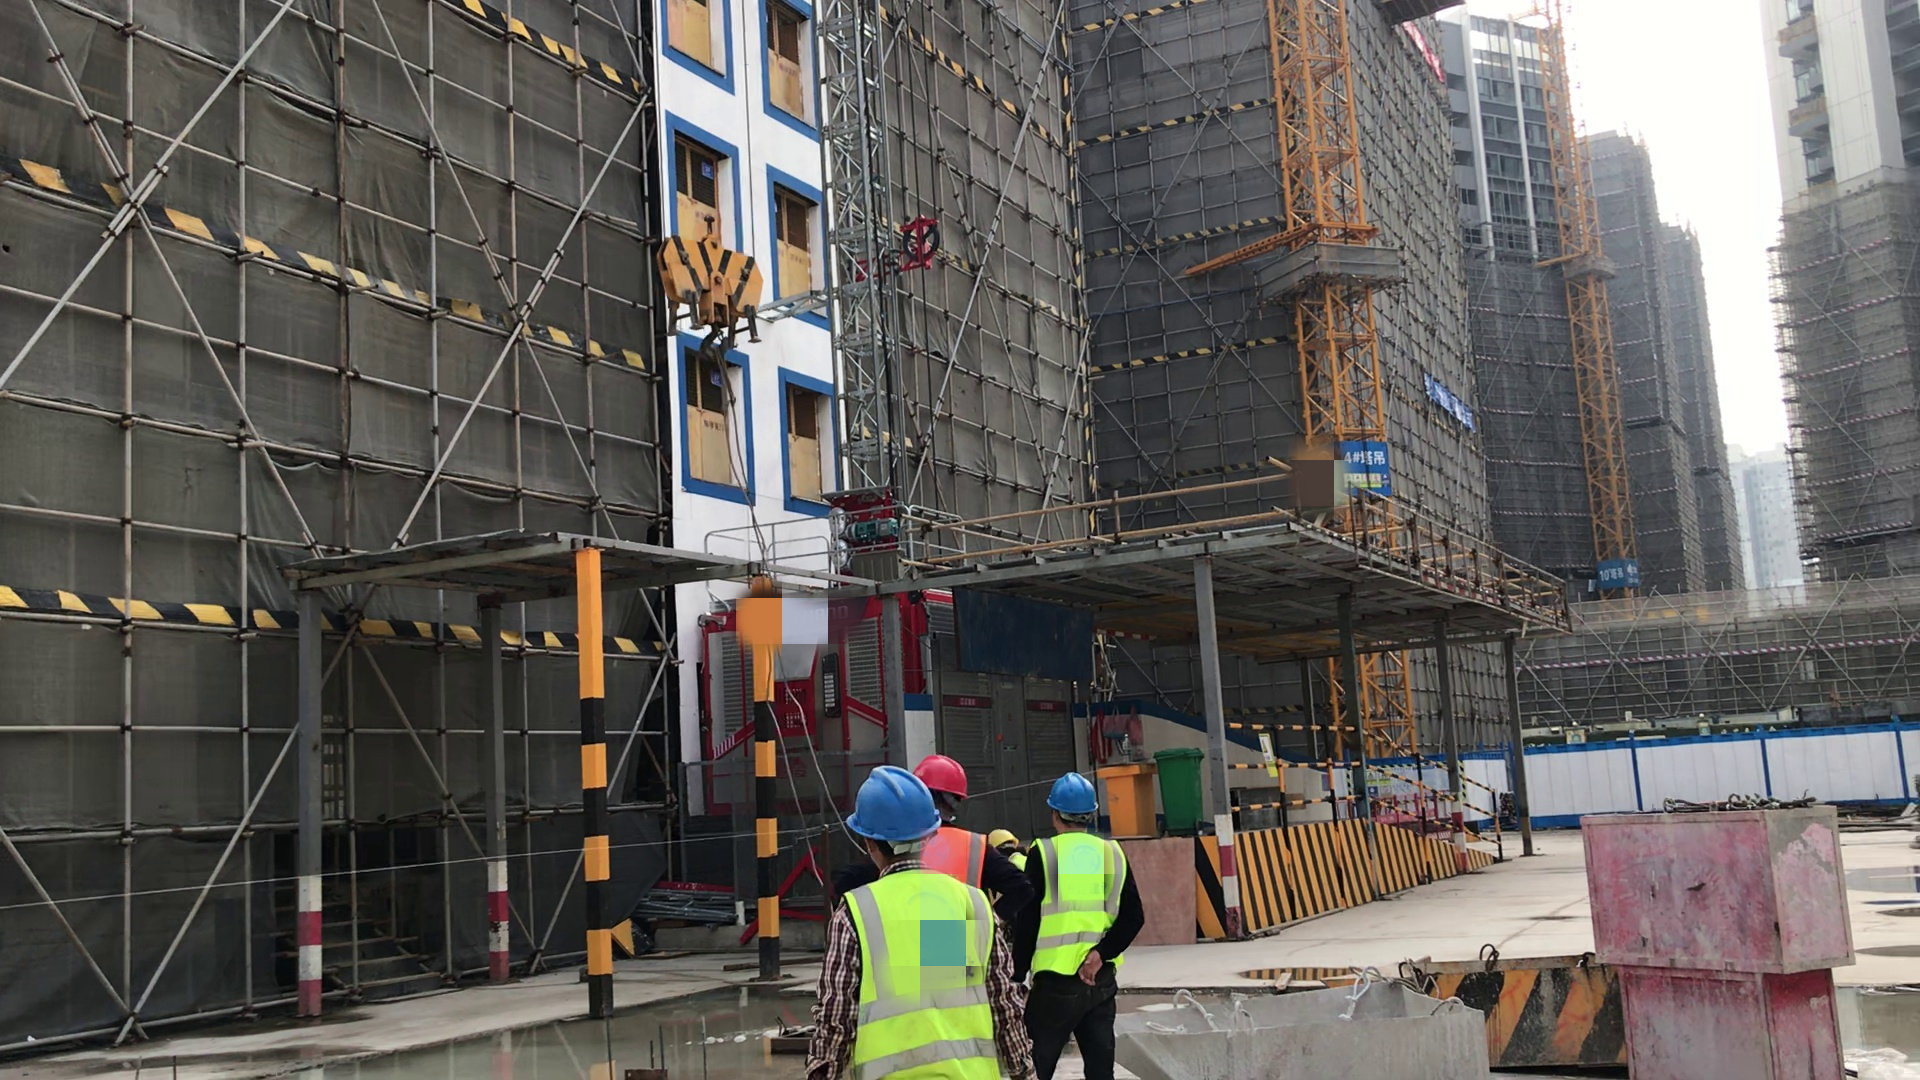fence: (1203, 696, 1543, 868)
helmet: (842, 762, 942, 845), (910, 745, 970, 805), (1042, 777, 1106, 823), (983, 816, 1024, 855)
hopper: (1118, 980, 1521, 1080), (1404, 951, 1624, 1080)
person: (812, 757, 1018, 1080), (1033, 766, 1138, 1080), (905, 744, 1028, 928)
scaffold: (642, 203, 778, 337)
vest: (838, 884, 1010, 1080), (1031, 837, 1133, 998), (919, 826, 1004, 893)
